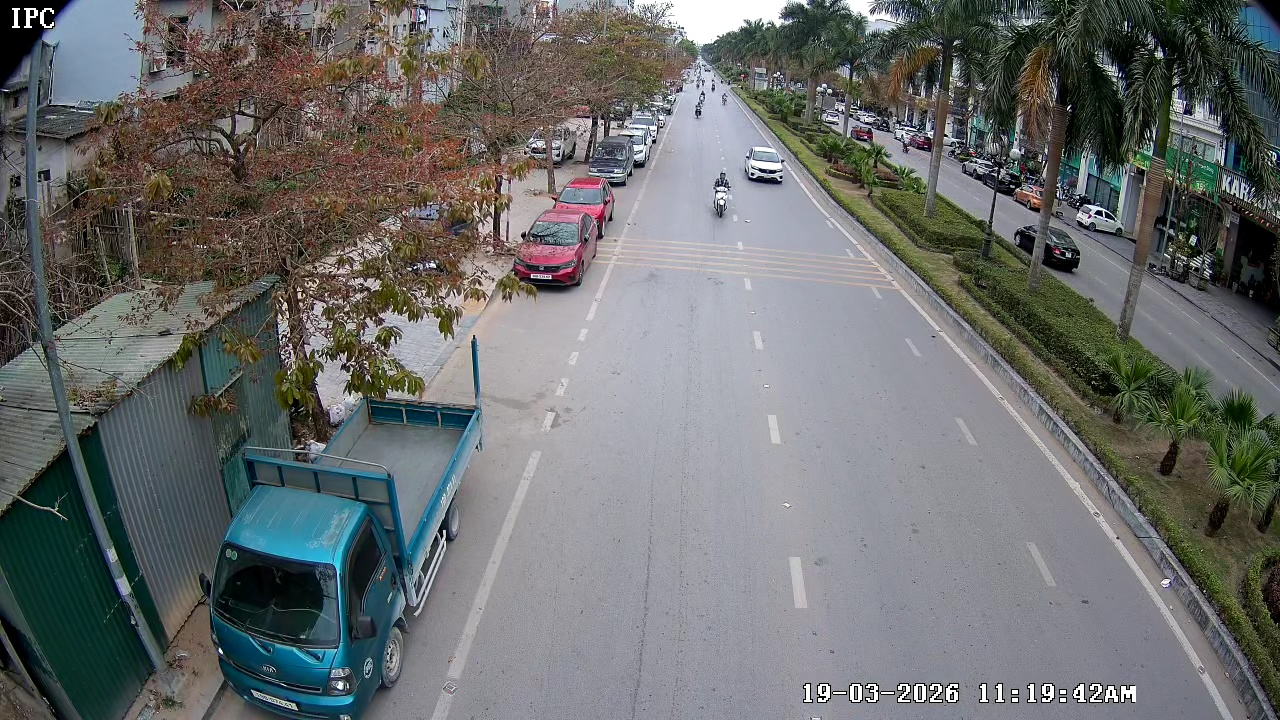car: (513, 209, 591, 290), (554, 177, 616, 237), (587, 124, 637, 192), (742, 144, 785, 185)
motorbike: (707, 167, 739, 218), (688, 102, 712, 122)
